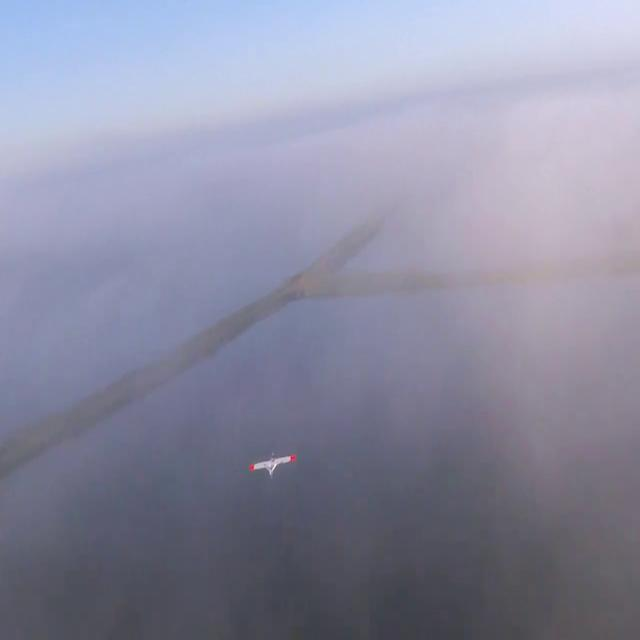iha: (249, 452, 297, 482)
